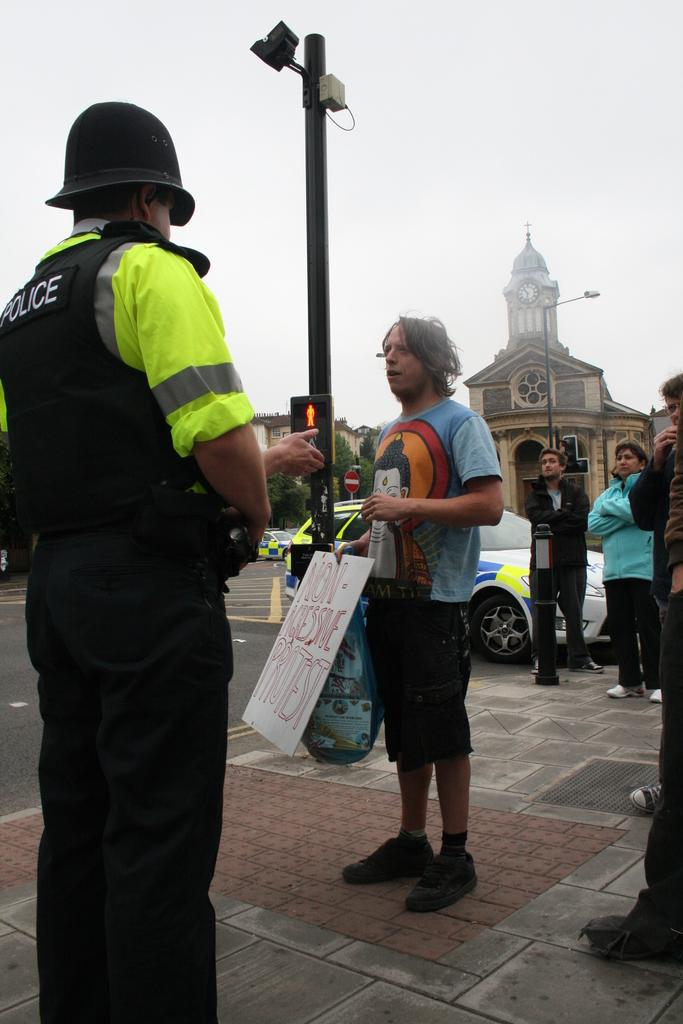Hat: (44, 98, 194, 227)
